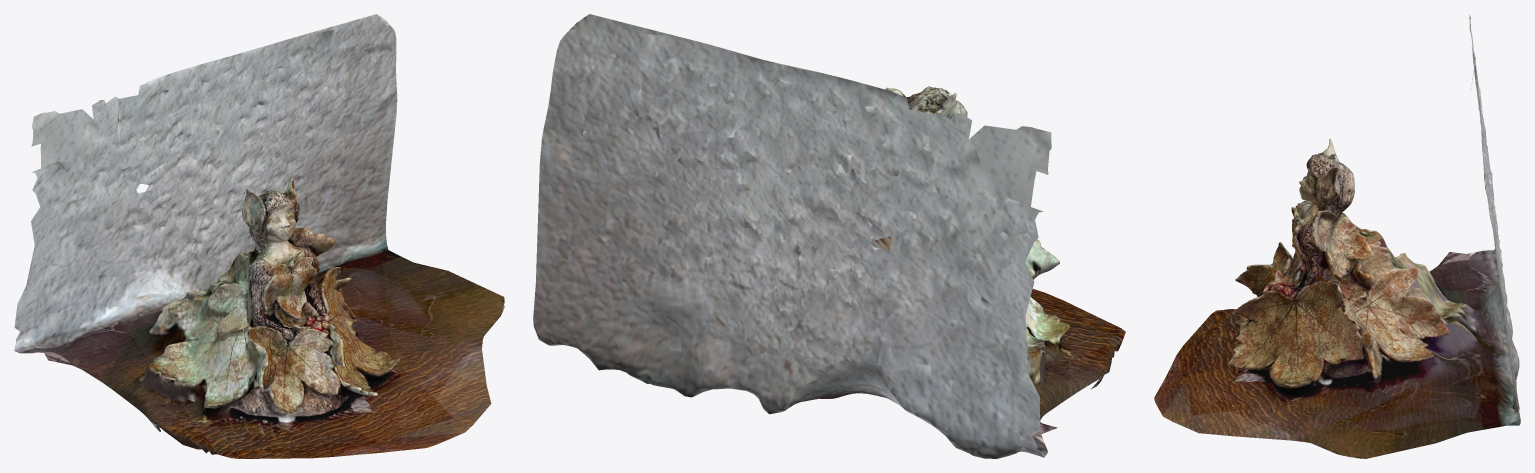
The model's file is bladerina.glb.
The picture shows the model from 3 angles, left to right: view 1: azimuth 30°, elevation 25°; view 2: azimuth 150°, elevation 25°; view 3: azimuth 270°, elevation 25°; orthographic projection. The views are drawn at different scales.
Visible parts, largest first — view 1: bladerina; view 2: bladerina; view 3: bladerina.
Boxes of the visible parts, x1,y1,x2,y2 form: bladerina: (14, 14, 504, 458); bladerina: (533, 14, 1125, 458); bladerina: (1154, 14, 1520, 458).
Bounding box in the file's own units: 33.34 × 21.26 × 25.07.
Materials: 2 (1 with a texture image).
